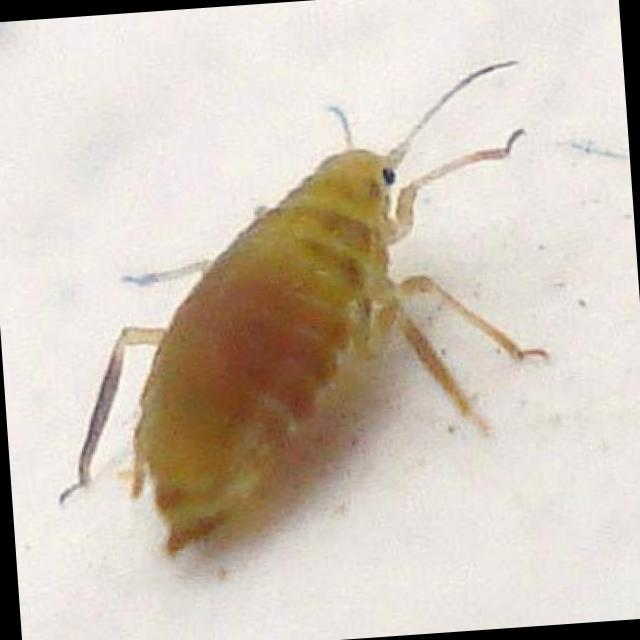Aphids: (12, 43, 594, 579)
